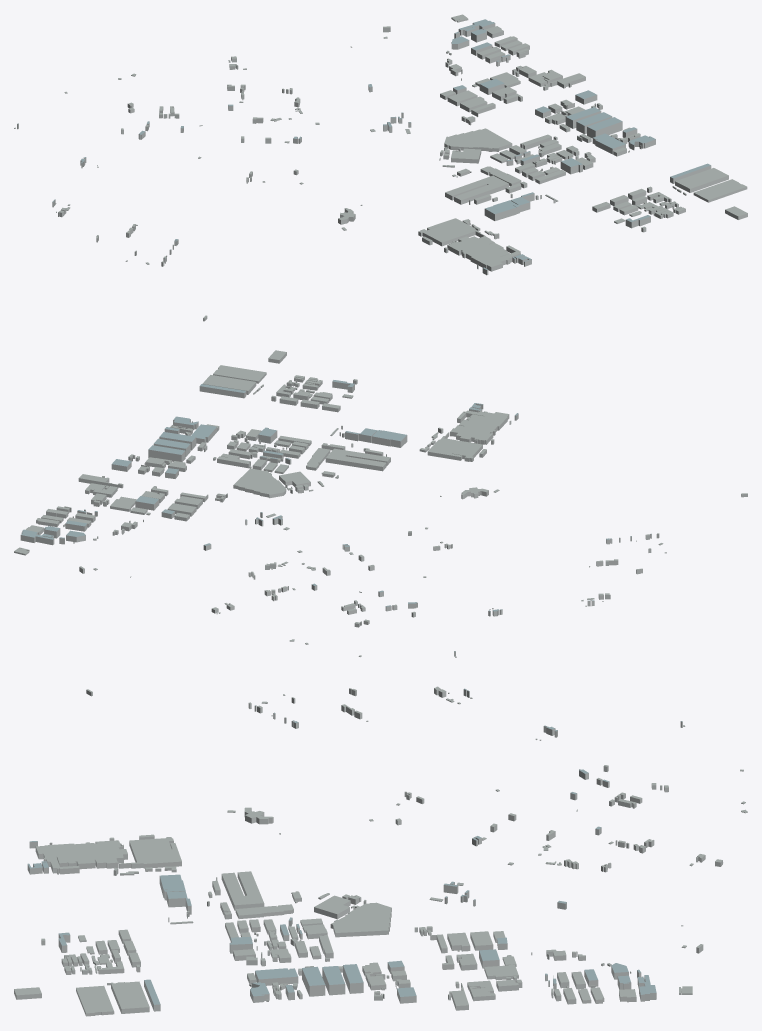
The model's file is far.glb.
The picture shows the model from 3 angles, top to bottom: view 1: azimuth 30°, elevation 25°; view 2: azimuth 150°, elevation 25°; view 3: azimuth 270°, elevation 25°; orthographic projection. The views are drawn at different scales.
Bounding box in the file's own units: 2203 × 34.27 × 2104.
